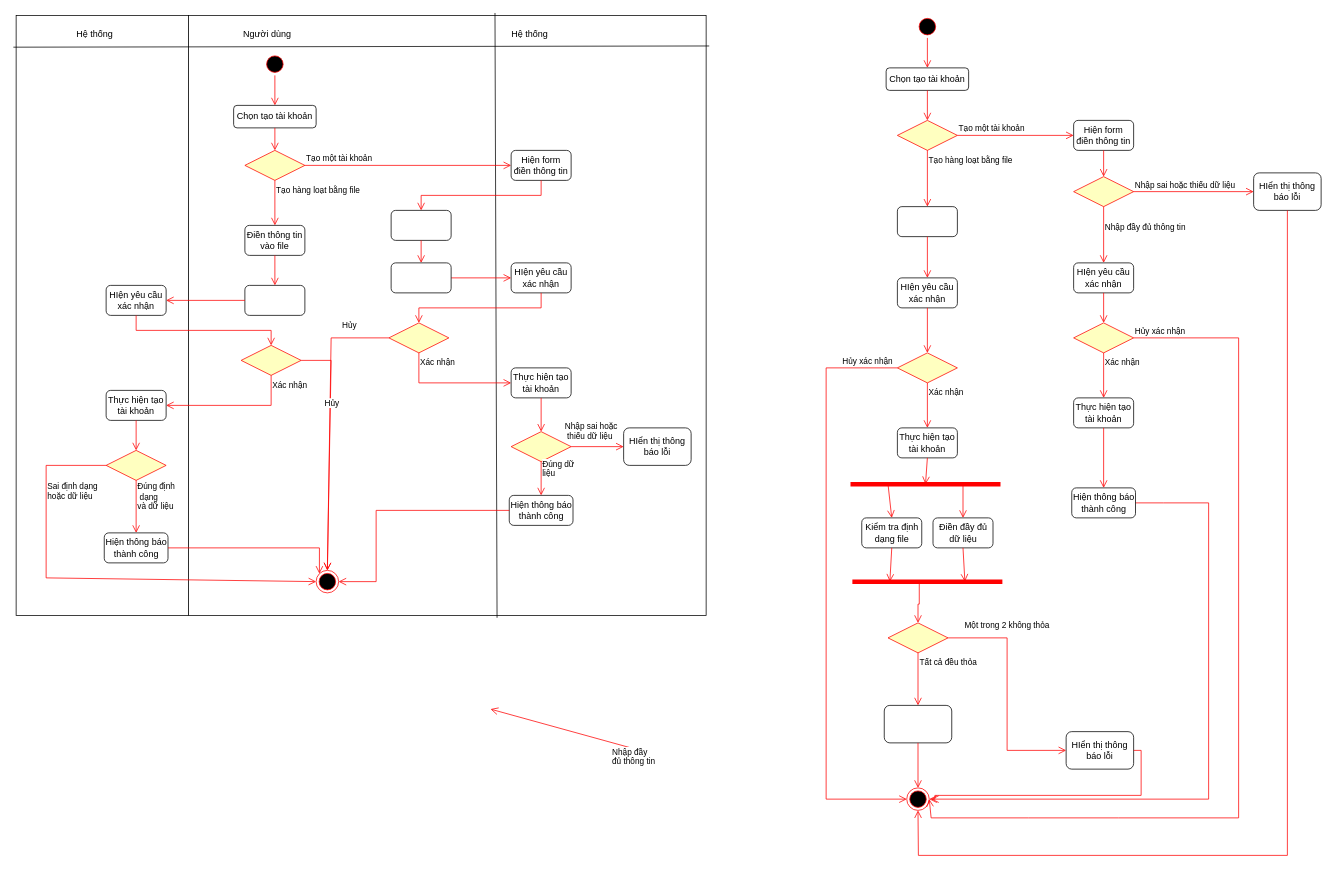
Image size: 1334x877. Some labels were removed from this diagram. Here are the shapes that lost their labels. From the top down, the box of each, then its label:
(390, 210, 451, 240): Điền thông tin form
(897, 206, 957, 237): Tải file thông tin tài khoản
(390, 262, 451, 293): Gửi form
(244, 285, 305, 315): Gửi file
(884, 705, 952, 743): HIển thị thông báo thành công
